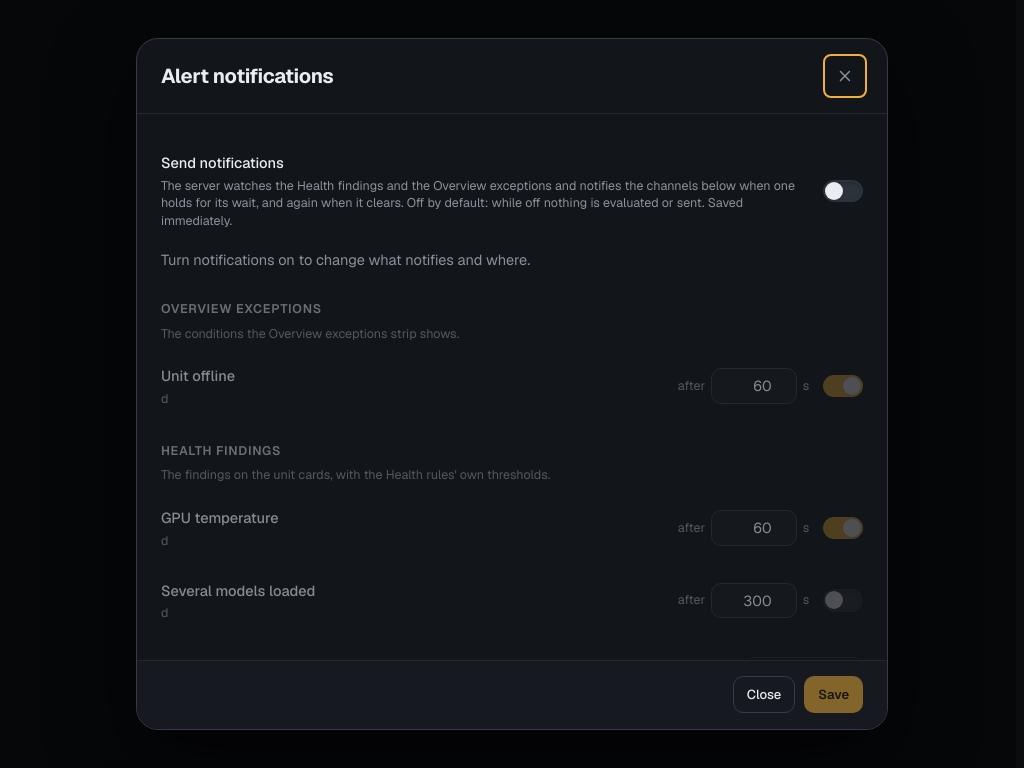
AlertsDialog › off: the switch saves the setting at once; rules and channels stay locked until it is on
Expected: the button "Save" is disabled, [804,676,863,713]
Click the switch named "Send notifications": (843, 191) [823,180,863,202]
(page scrolled)
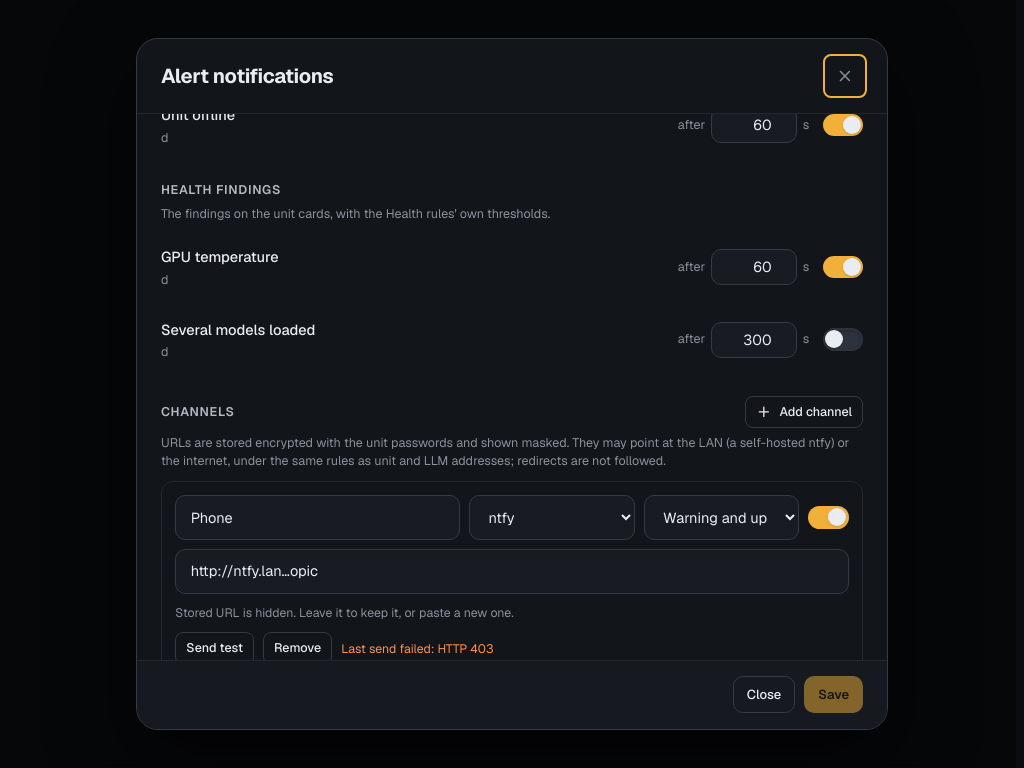
Expected: the element that starts with "Overview exceptions" is enabled, [161,114,863,660]
